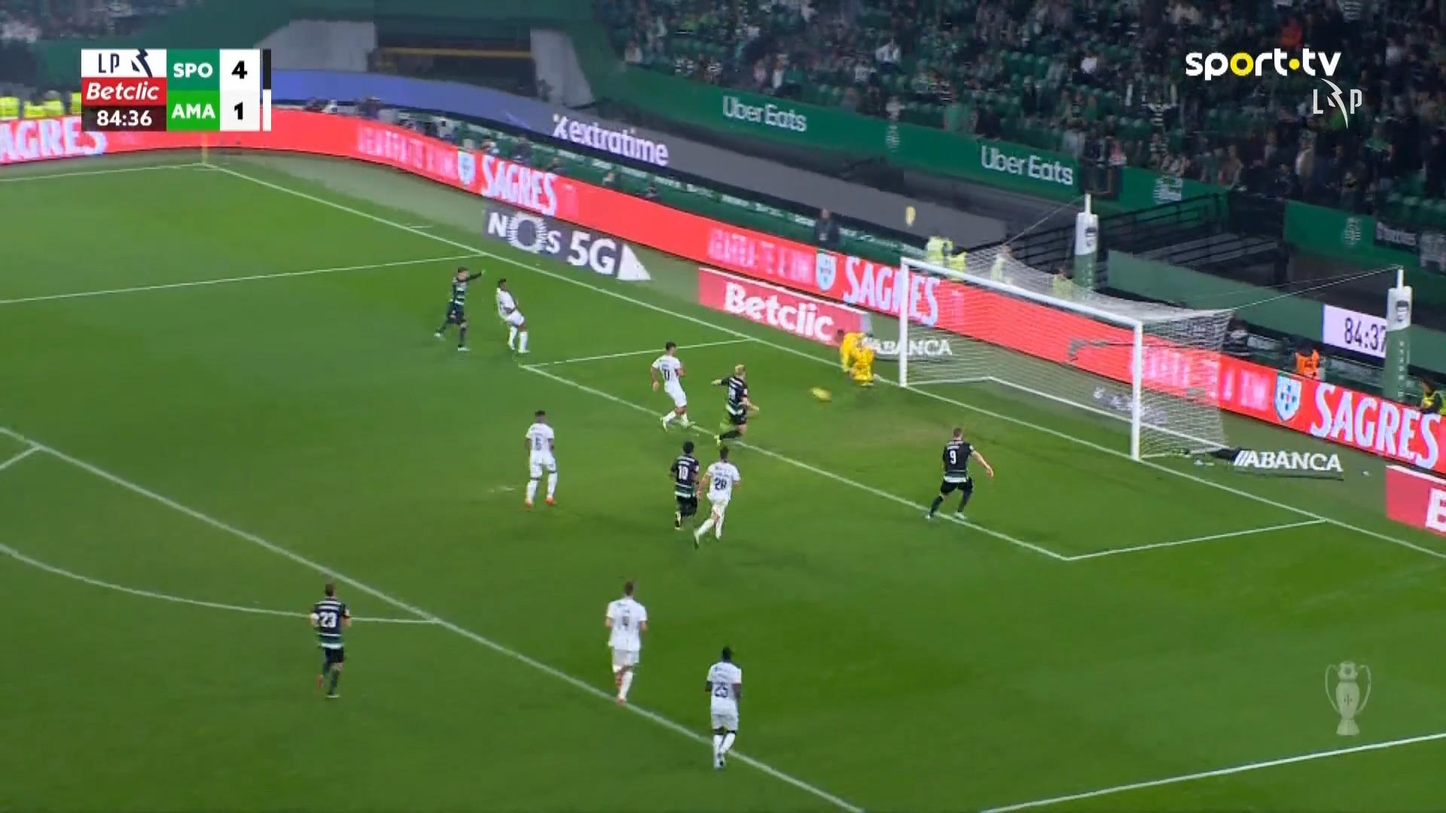ball: (810, 386, 831, 401)
goalkeeper: (844, 333, 877, 387)
player: (924, 426, 994, 520), (602, 580, 648, 705), (308, 580, 352, 699), (691, 444, 740, 550), (703, 644, 743, 769), (433, 266, 484, 351), (709, 362, 759, 446), (649, 340, 694, 431), (522, 410, 558, 507), (669, 440, 700, 530), (494, 277, 530, 354)
